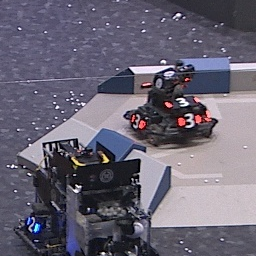Blue: (25, 216, 41, 235)
Red: (165, 95, 201, 109), (175, 112, 202, 128), (130, 111, 145, 129)
Robot: (15, 137, 159, 256), (122, 62, 219, 147)
